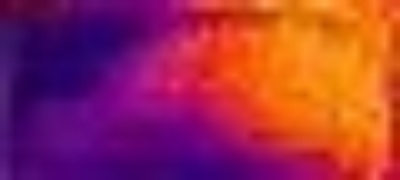Shadow: (1, 1, 177, 180), (177, 96, 249, 180)
